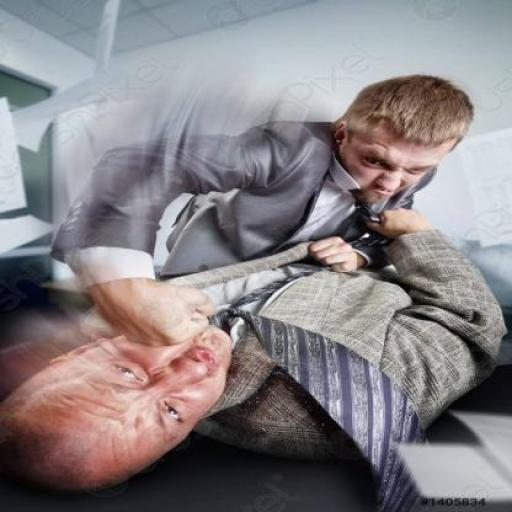Fighting: (1, 72, 499, 490)
